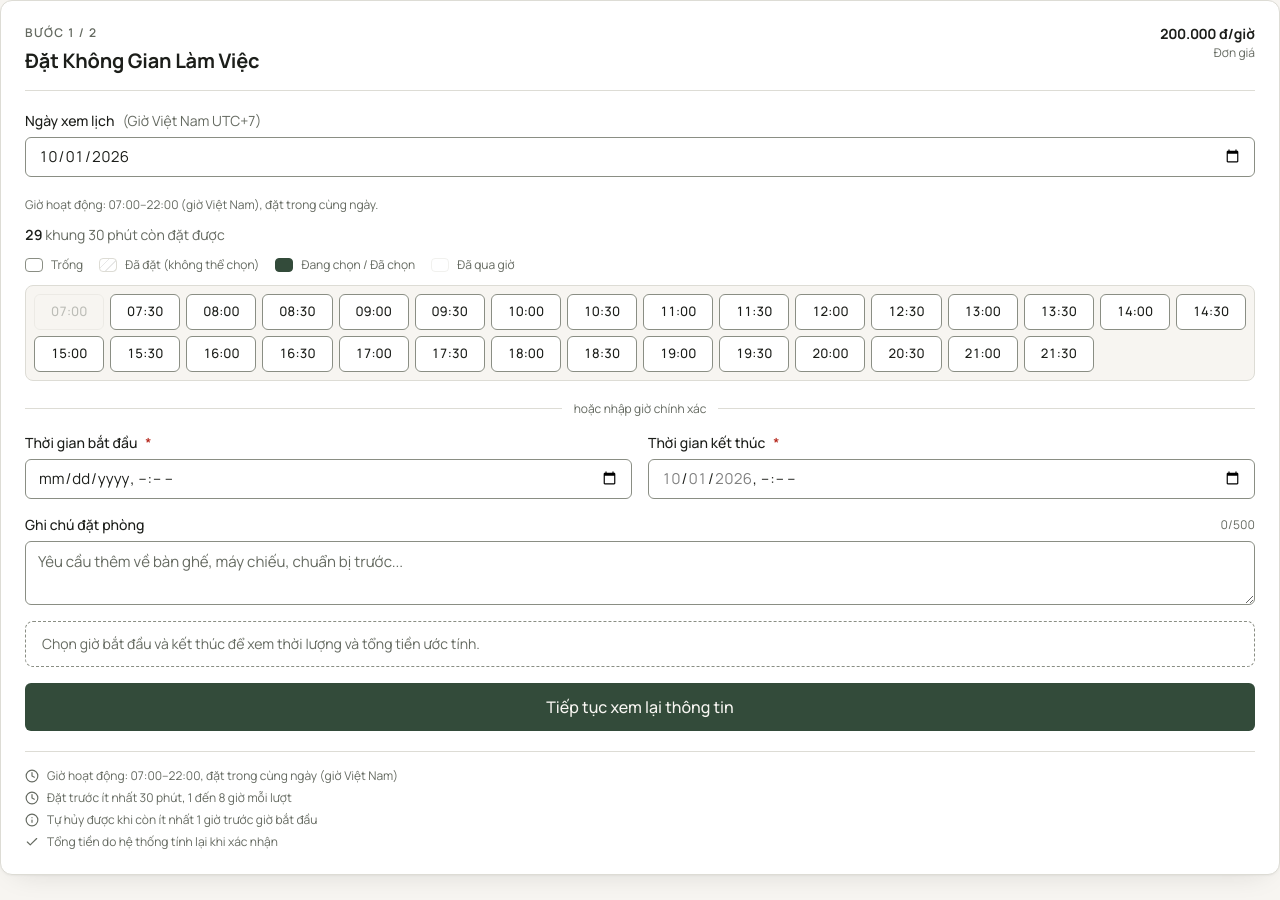
Test: BookingForm › Form Validation & Price Preview › validates minimum 1 hour duration
Type "2026-10-25T10:00" into the field labelled "Thời gian bắt đầu *".
click(328, 479); type("2026-10-25T10:00")  # box x1=25 y1=459 x2=632 y2=499
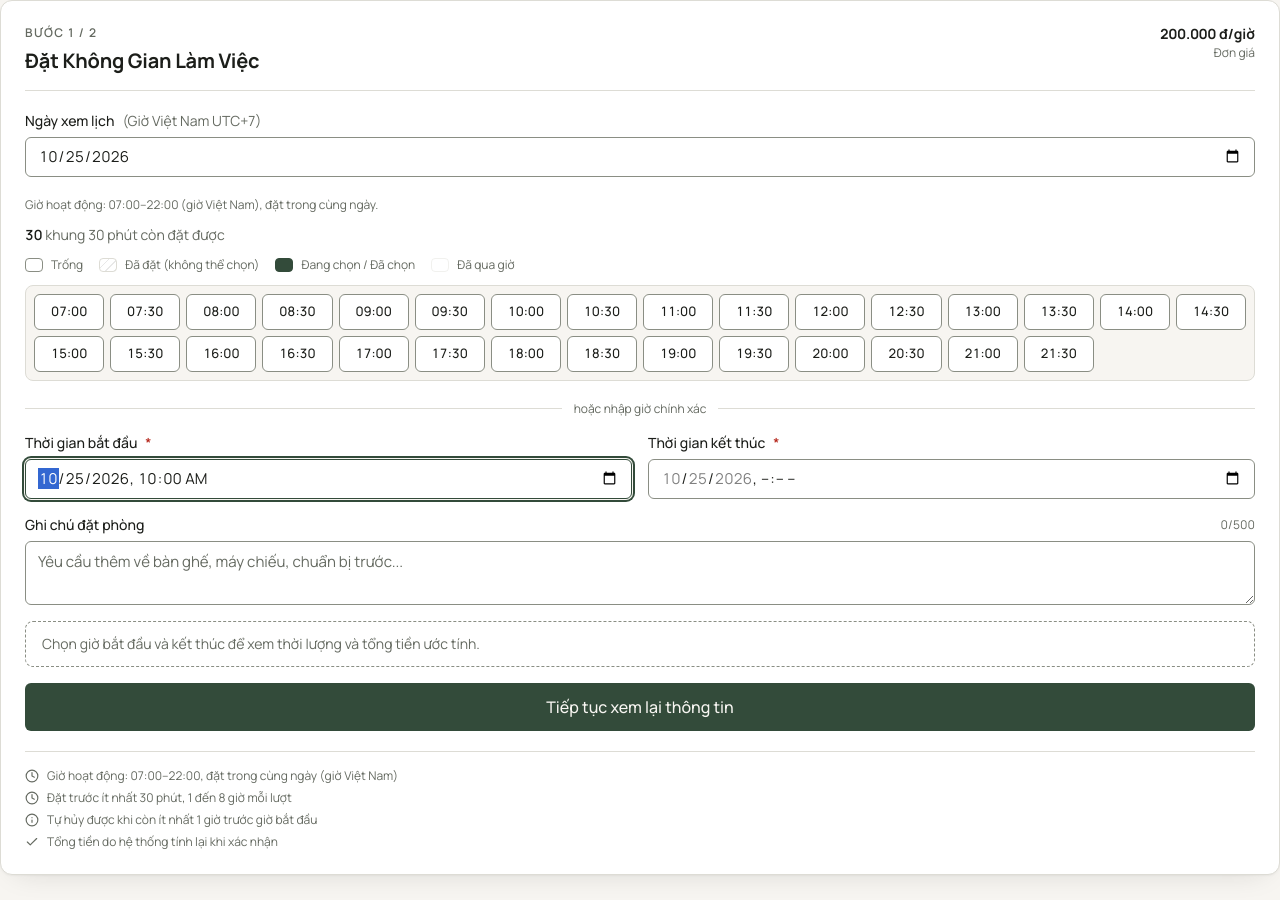
Type "2026-10-25T10:30" into the field labelled "Thời gian kết thúc *".
click(952, 479); type("2026-10-25T10:30")  # box x1=648 y1=459 x2=1255 y2=499
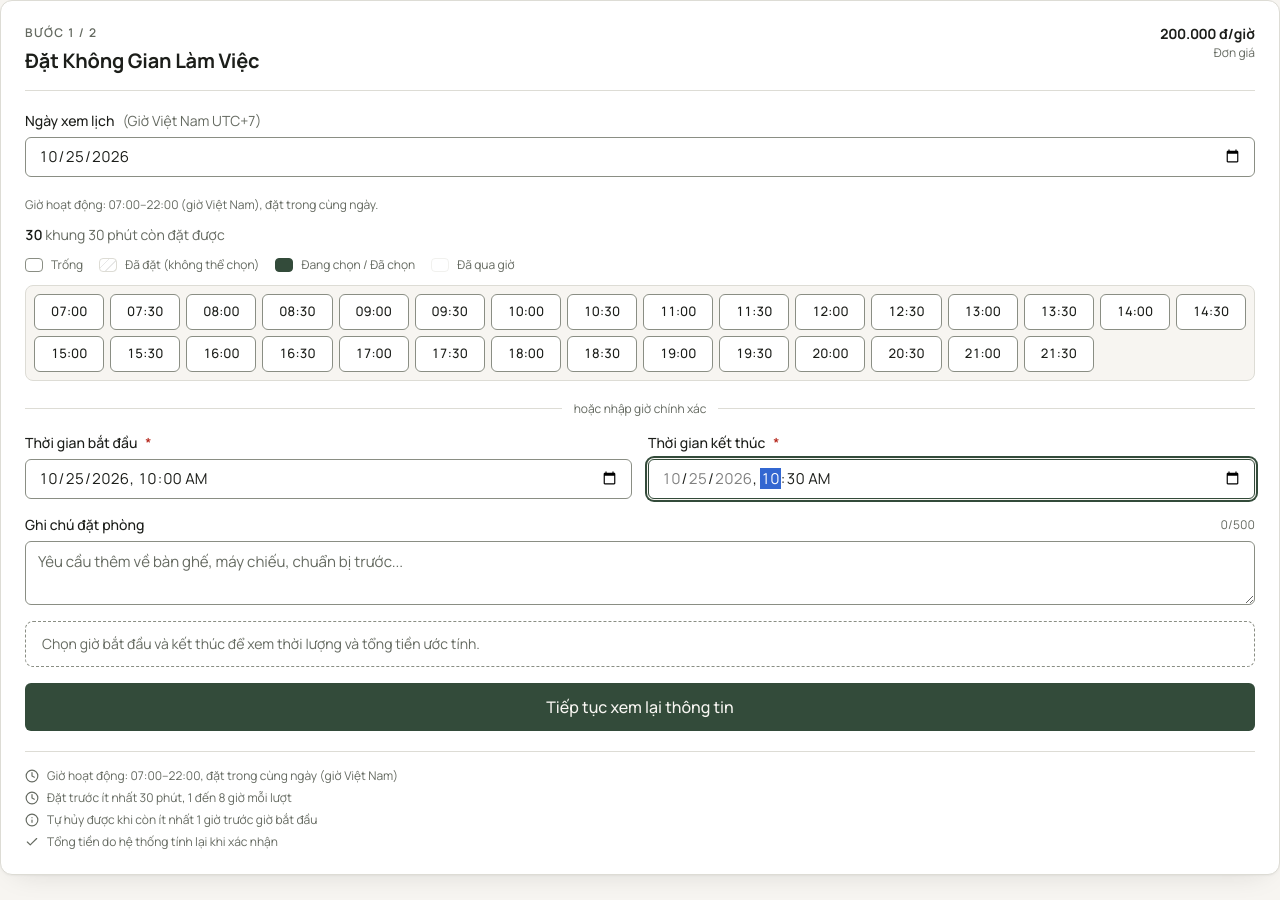
Click the button with test id "booking-submit-btn".
click(640, 707)  # box x1=25 y1=683 x2=1255 y2=731
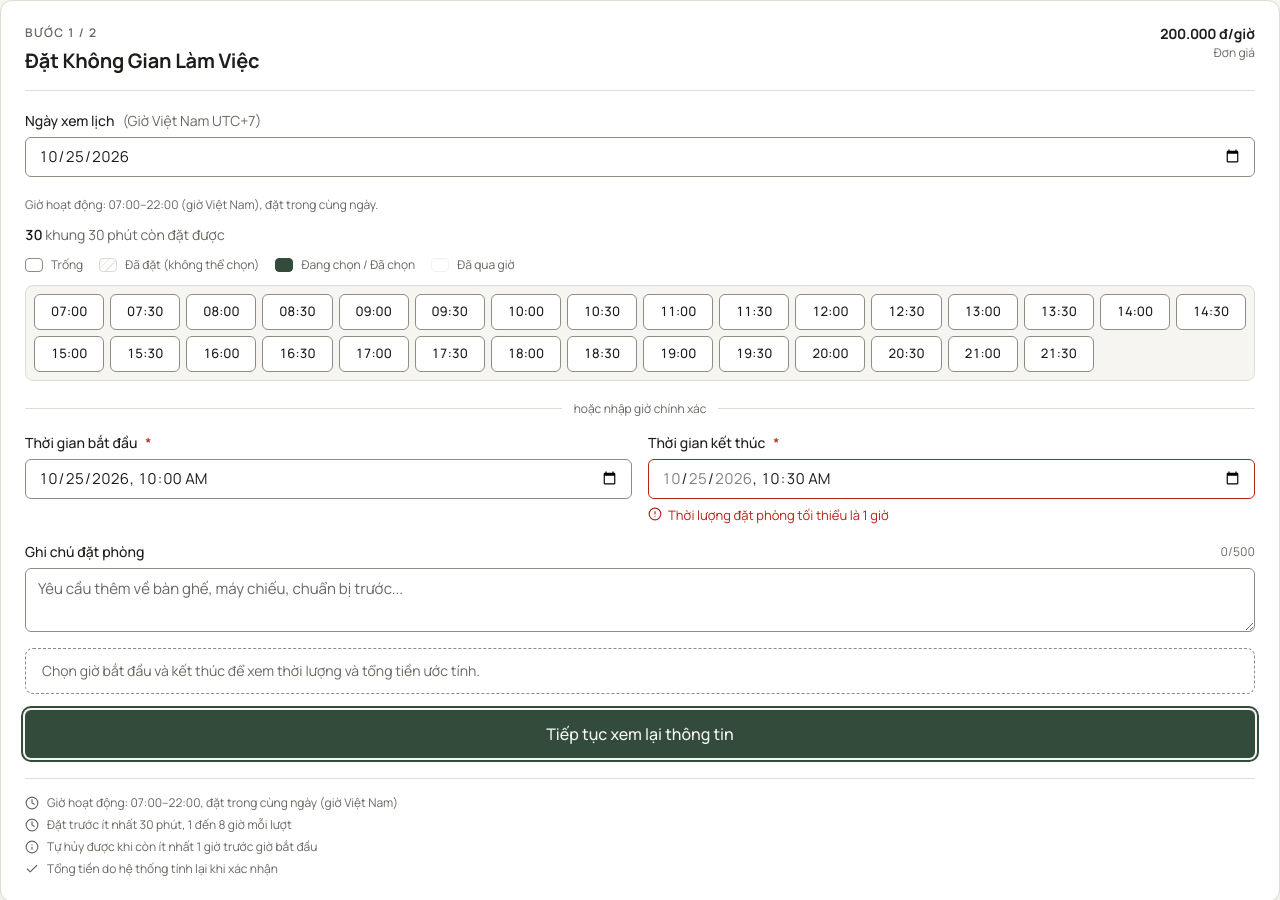
expect the text "Thời lượng đặt phòng tối thiểu là 1 giờ" is shown: met, box x1=668 y1=505 x2=889 y2=526
